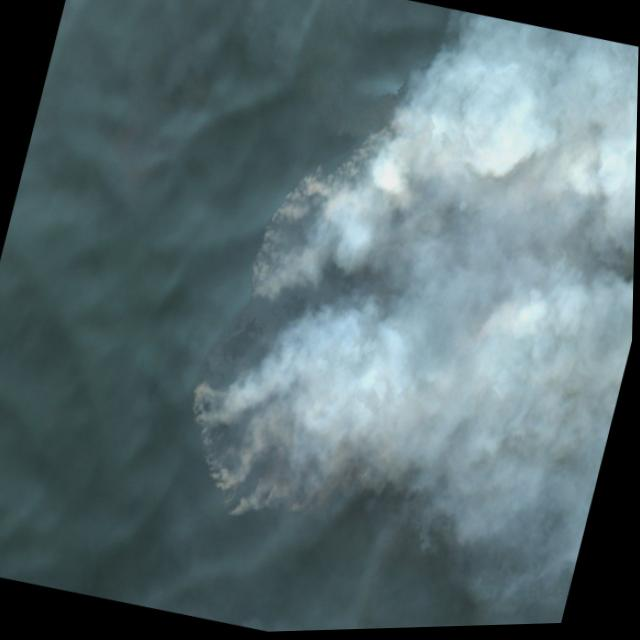fire: (148, 90, 601, 599)
